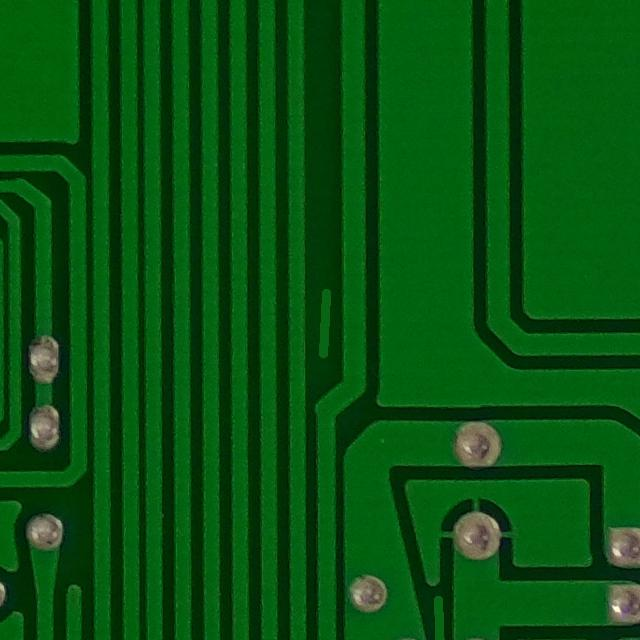spurious_copper: (302, 273, 339, 368)
